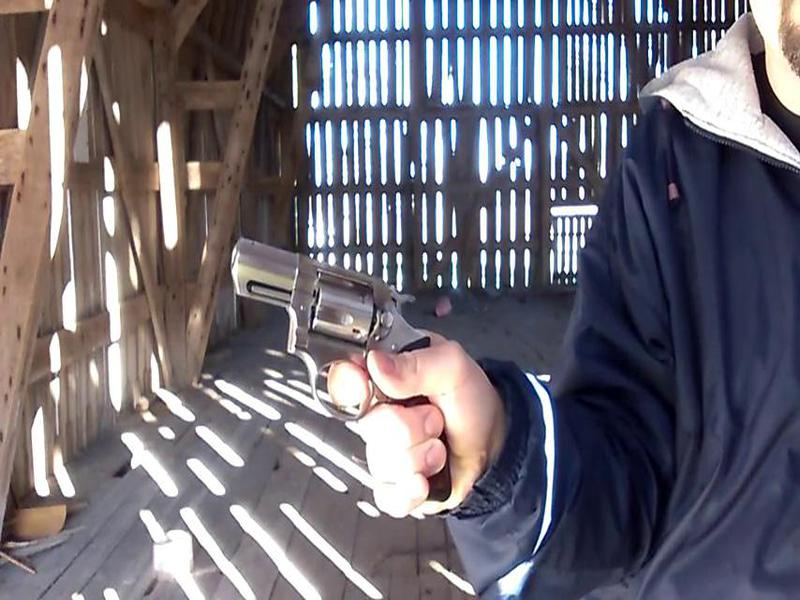Revolver: (187, 223, 464, 504)
